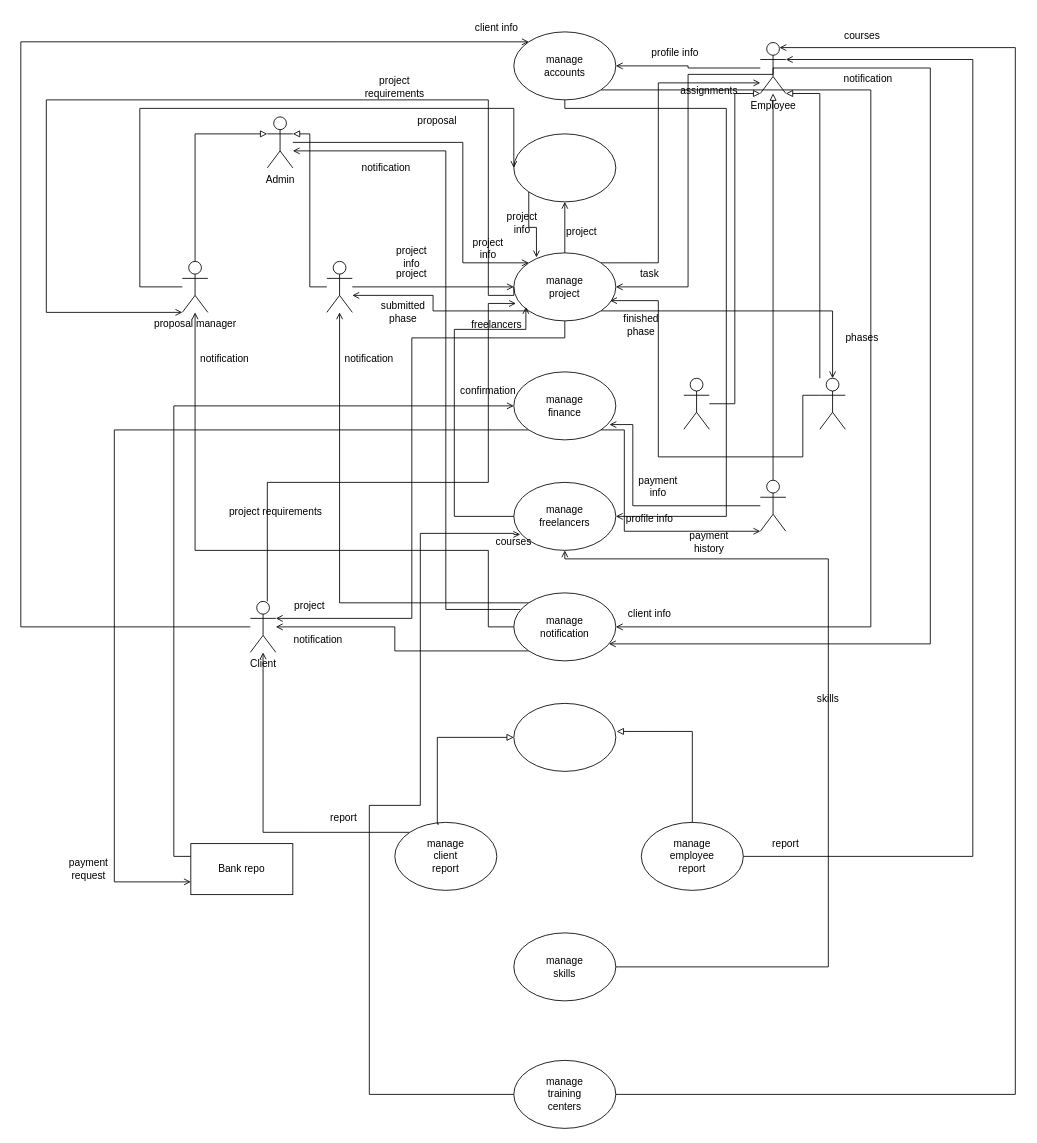
The diagram is 1037 pixels wide and 1143 high, and some of its shapes have lost their labels. The shapes that lost their labels are listed below. From the top down, each one's box as (x1, y1, x2, y2) in pixels, then its label:
(513, 133, 616, 202): manage clients
(326, 261, 352, 312): general manager
(683, 377, 709, 429): Team member
(819, 377, 845, 429): Team leader
(759, 479, 786, 531): accountant
(513, 703, 616, 771): manage report
